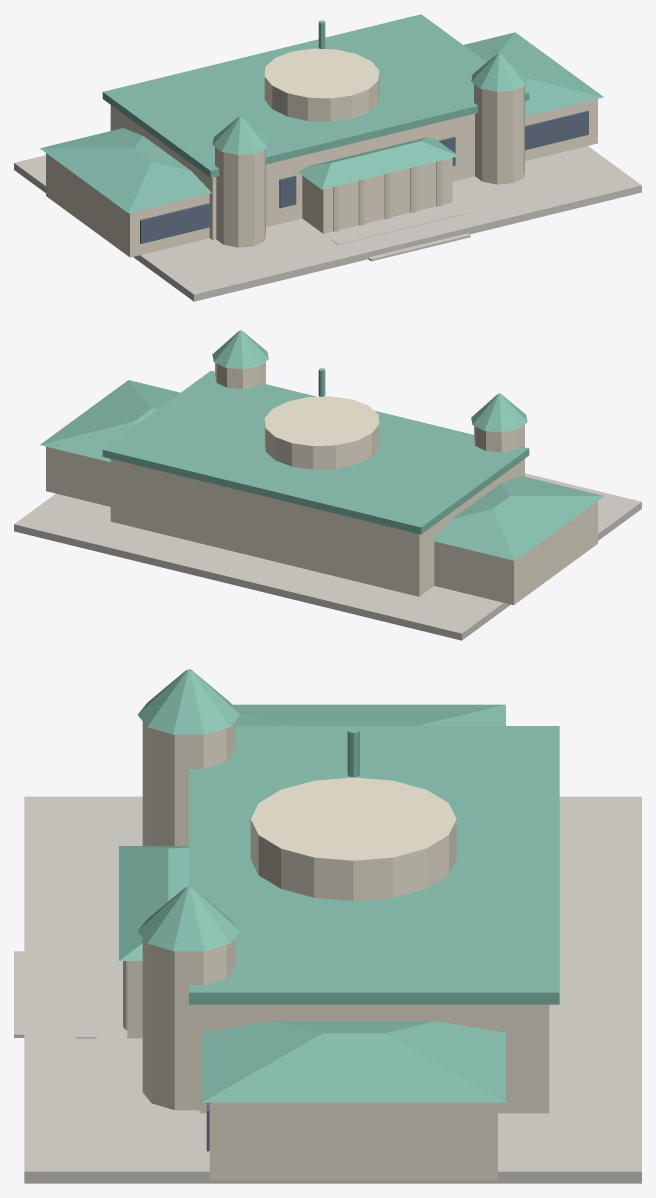
Rendered from casino_palace.glb.
The picture shows the model from 3 angles, top to bottom: view 1: azimuth 30°, elevation 25°; view 2: azimuth 150°, elevation 25°; view 3: azimuth 270°, elevation 25°; orthographic projection. The views are drawn at different scales.
Parts seen in each view (by area): view 1: casino_palace; view 2: casino_palace; view 3: casino_palace.
Part boxes in pixels (bbox=[...]): casino_palace: bbox=[14, 14, 641, 301]; casino_palace: bbox=[14, 330, 641, 640]; casino_palace: bbox=[14, 669, 641, 1183].
Bounding box in the file's own units: 90 × 28 × 60.
